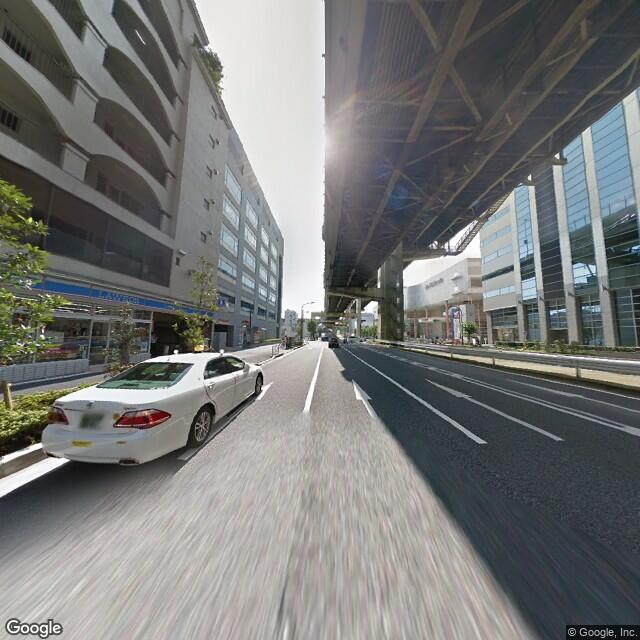lawson: (31, 269, 197, 319)
